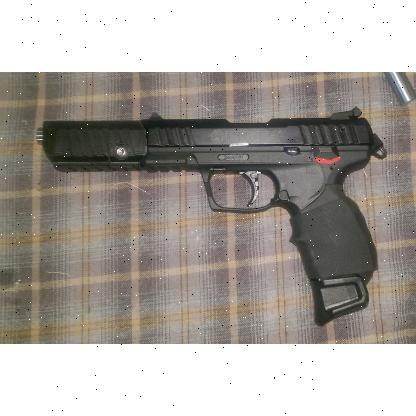gun: (35, 104, 386, 324)
